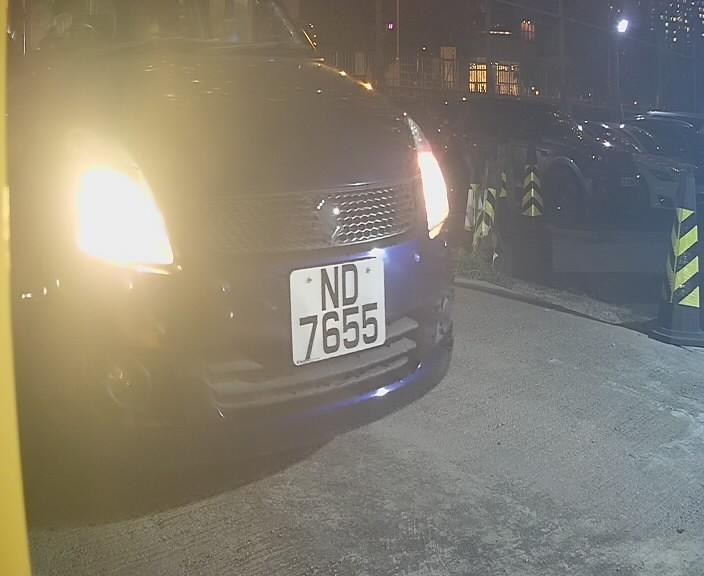Car: (13, 24, 519, 484)
License Plate: (287, 245, 393, 379)
